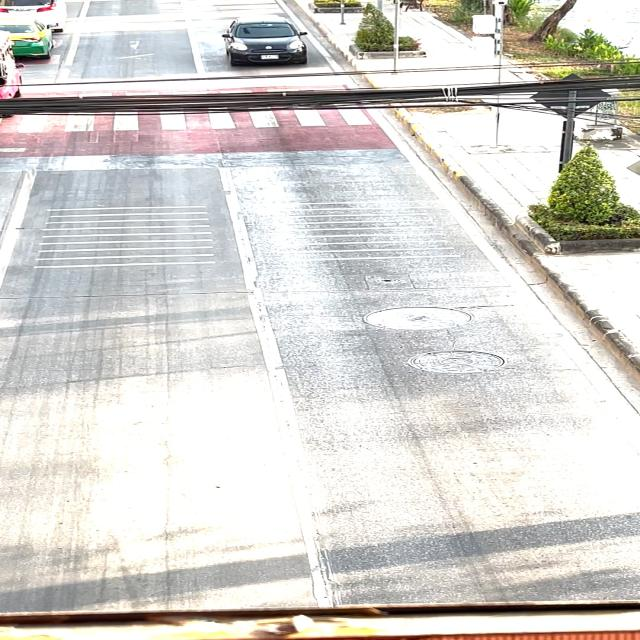car: (208, 5, 326, 72)
